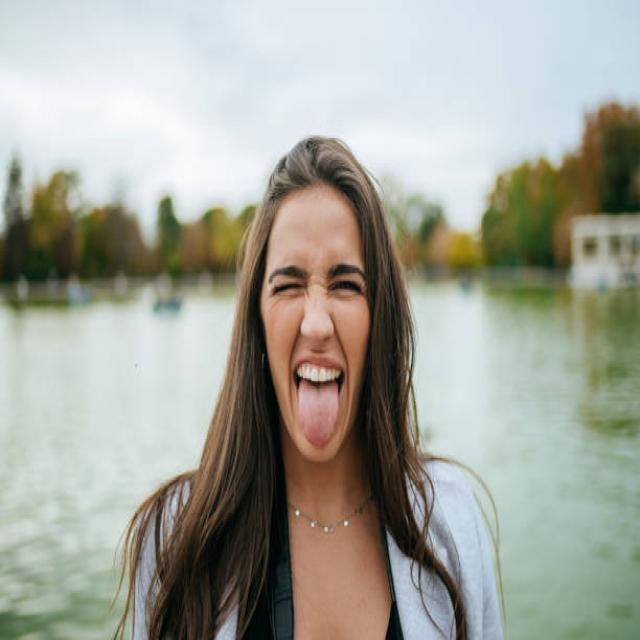tongue: (292, 378, 347, 454)
